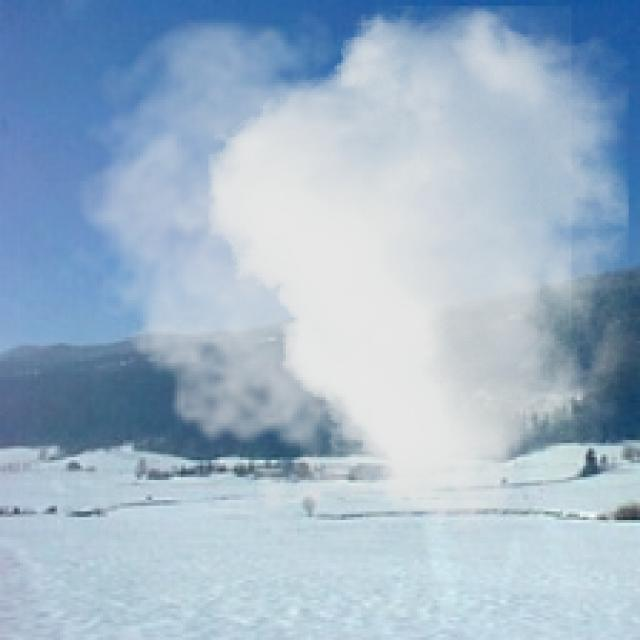smoke: (60, 6, 629, 548)
